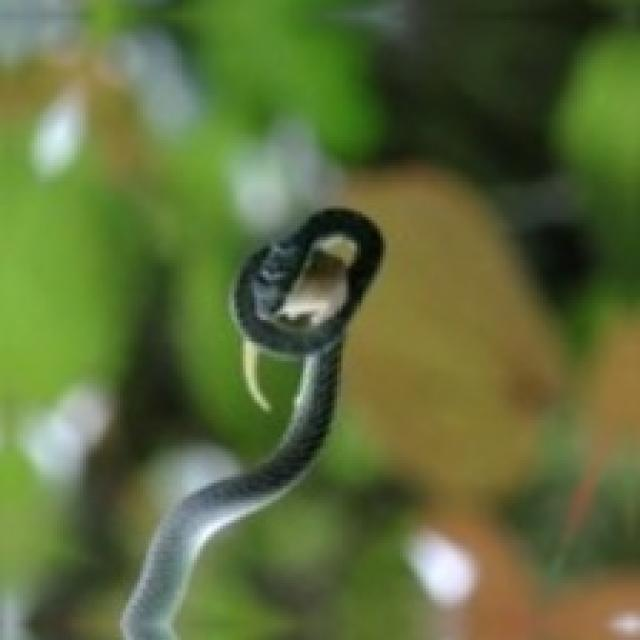paradise tree snake: (123, 209, 380, 637)
